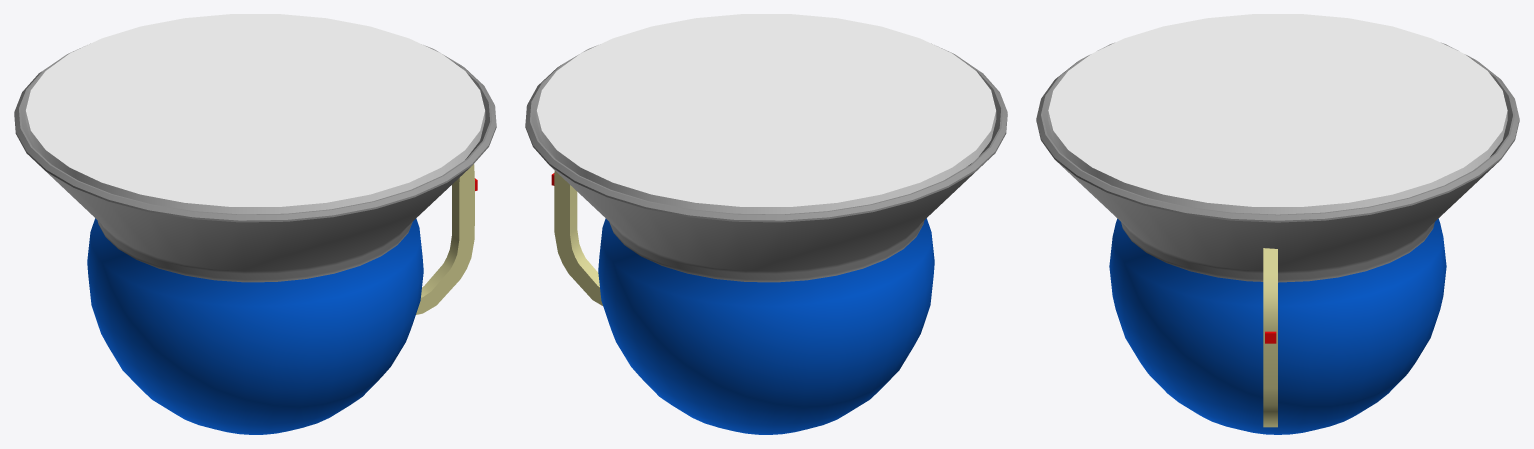
File: Bag Logan.FBX
3 renders of one model, left to right at view 1: azimuth 30°, elevation 25°; view 2: azimuth 150°, elevation 25°; view 3: azimuth 270°, elevation 25°, orthographic.
Parts seen in each view (by area): view 1: Trap, GeoSphere002; view 2: Trap, GeoSphere002; view 3: Trap, GeoSphere002.
Part boxes in pixels (x1=…): Trap: x1=25, y1=14, x2=485, y2=214; GeoSphere002: x1=14, y1=43, x2=496, y2=434; Trap: x1=536, y1=14, x2=996, y2=214; GeoSphere002: x1=525, y1=43, x2=1007, y2=434; Trap: x1=1048, y1=14, x2=1507, y2=214; GeoSphere002: x1=1036, y1=42, x2=1519, y2=434.
Bounding box in the file's own units: 12845 × 8918 × 12654.
